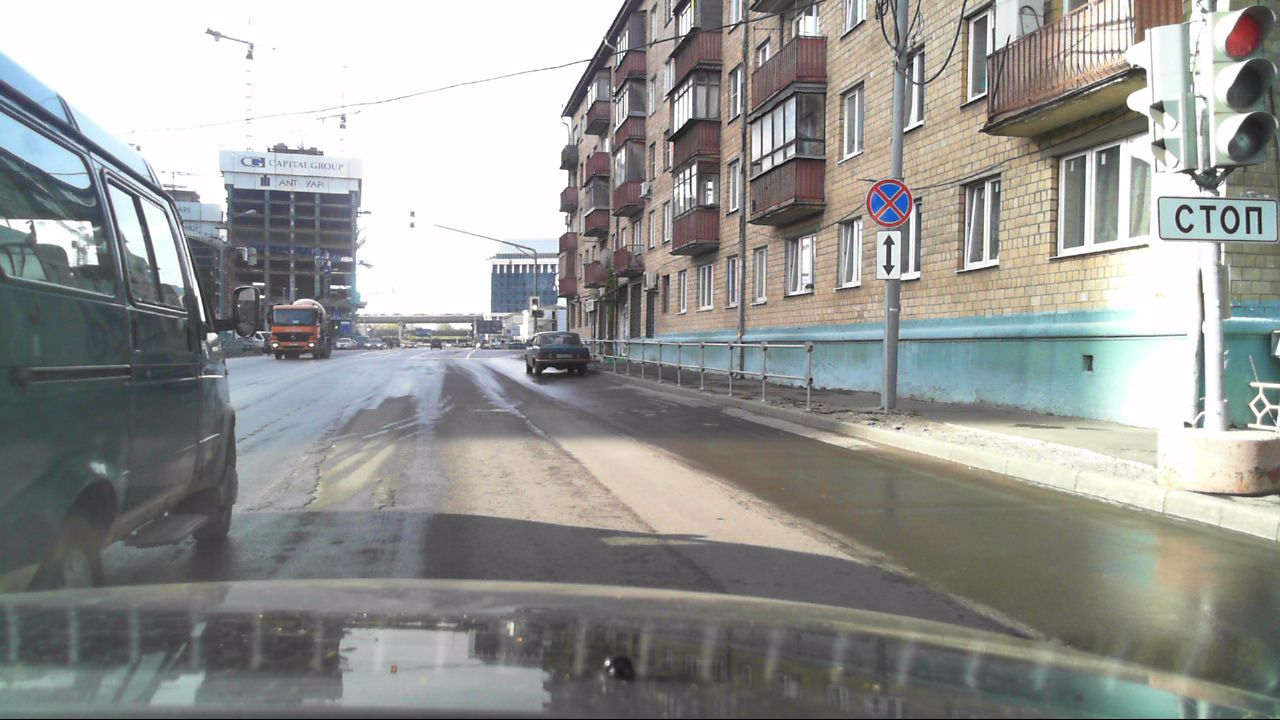No Parking: (866, 182, 915, 227)
